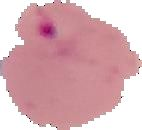parasitized: (28, 6, 68, 41)
